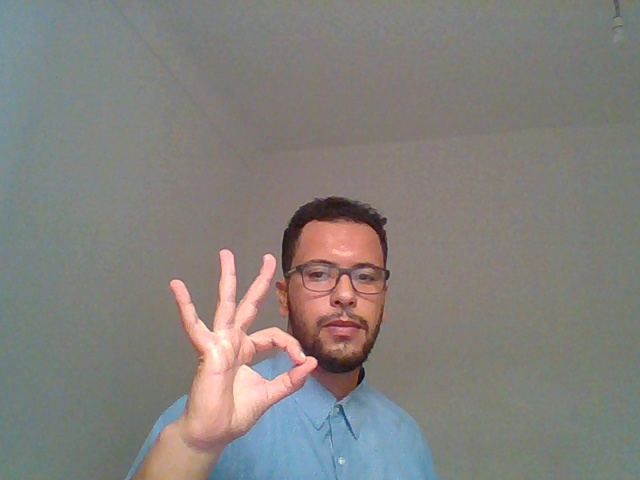okay: (123, 229, 320, 469)
